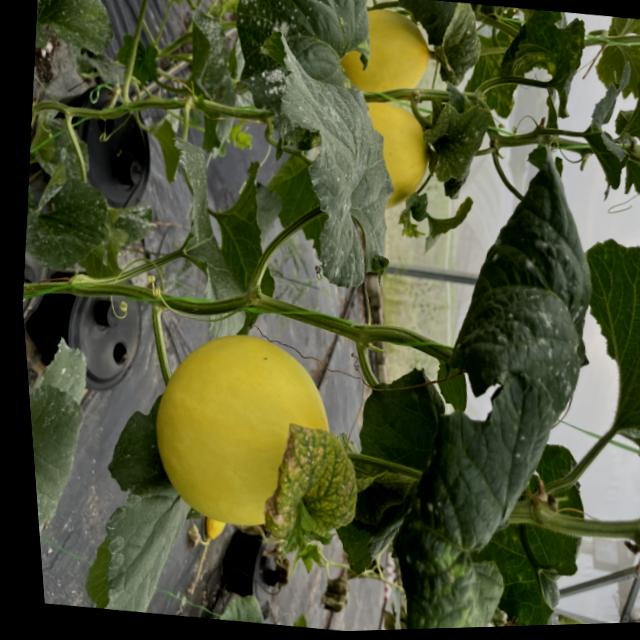alternaria leaf blight: (253, 415, 369, 566), (499, 4, 591, 109)
powdery mildew: (358, 256, 615, 630), (245, 39, 415, 287), (228, 0, 381, 119), (18, 136, 117, 288), (27, 362, 102, 529), (31, 0, 126, 57)
